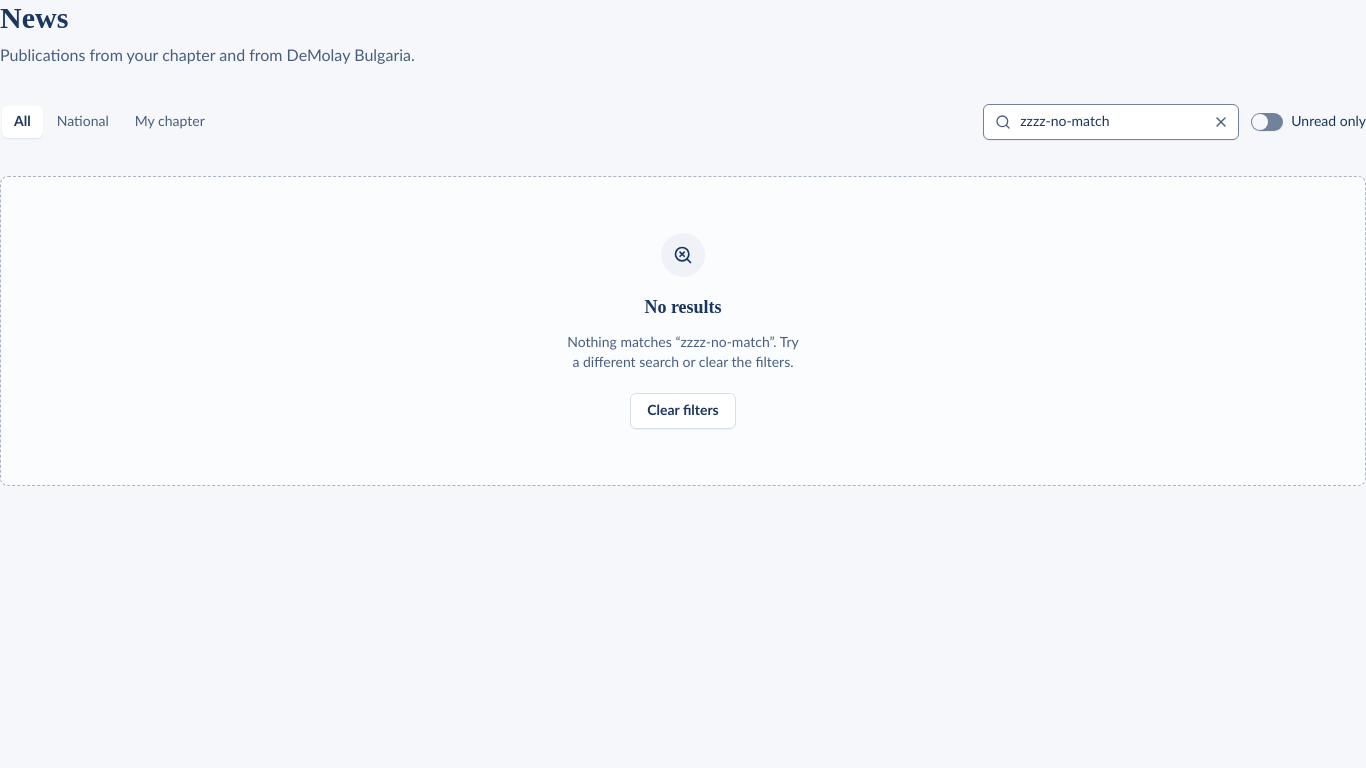
Test: NewsFeedPage › offers to clear filters when a search finds nothing
Expected: the text "No results" is shown, [644,293,722,321]
Expected: the text "Nothing matches “zzzz-no-match”" is shown, [567,336,799,370]
Click the button "Clear filters" at (683, 411), box [630,393,736,429]
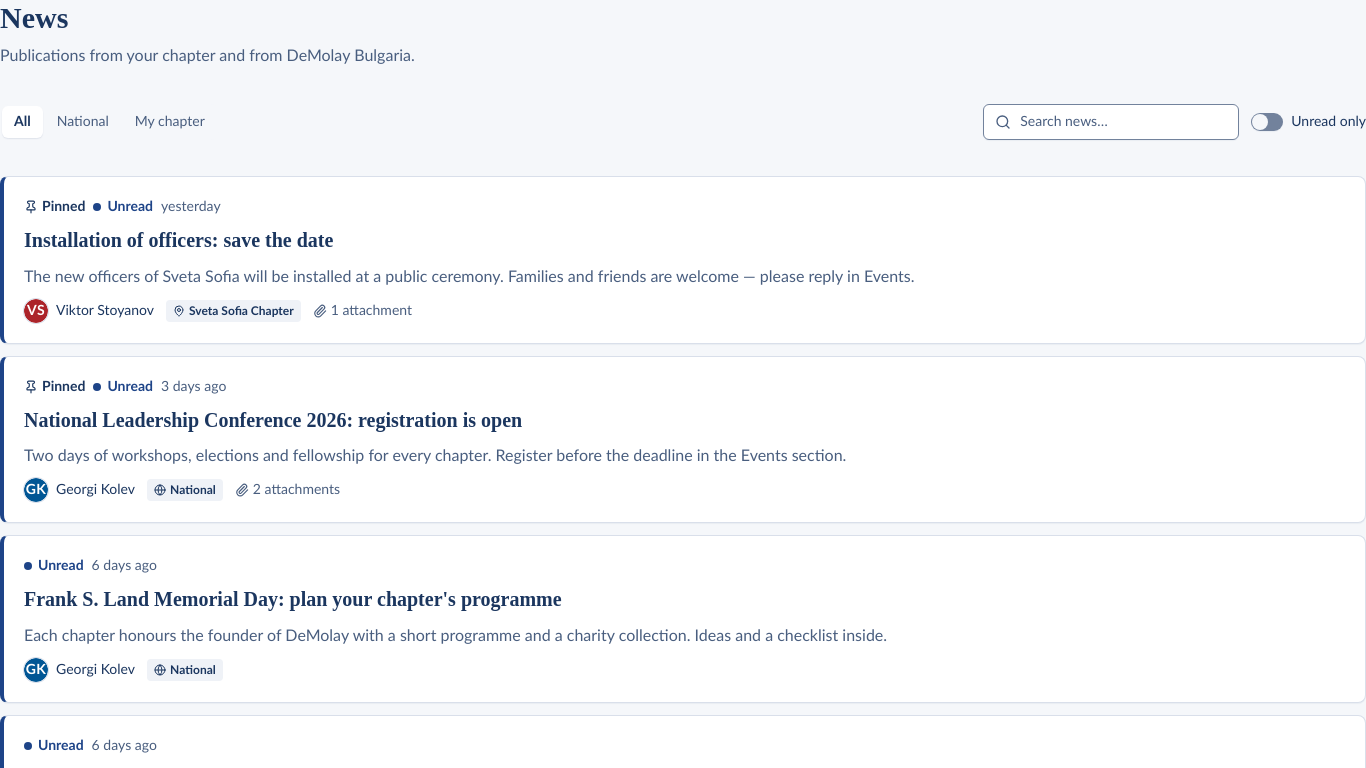
Result: the link "Installation of officers: save the date" is shown at [24,229,333,251]
